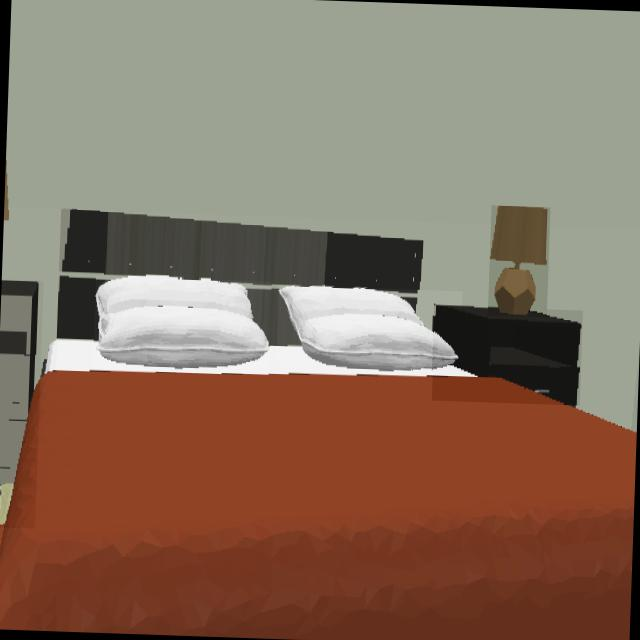bed: (0, 210, 636, 640)
lamp: (489, 206, 548, 316)
nighttable: (434, 305, 582, 404), (0, 280, 40, 525)
pillow: (95, 276, 269, 373), (279, 286, 459, 368)
